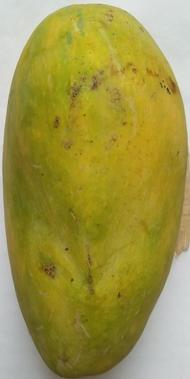PartiallyRipe: (0, 1, 190, 379)
